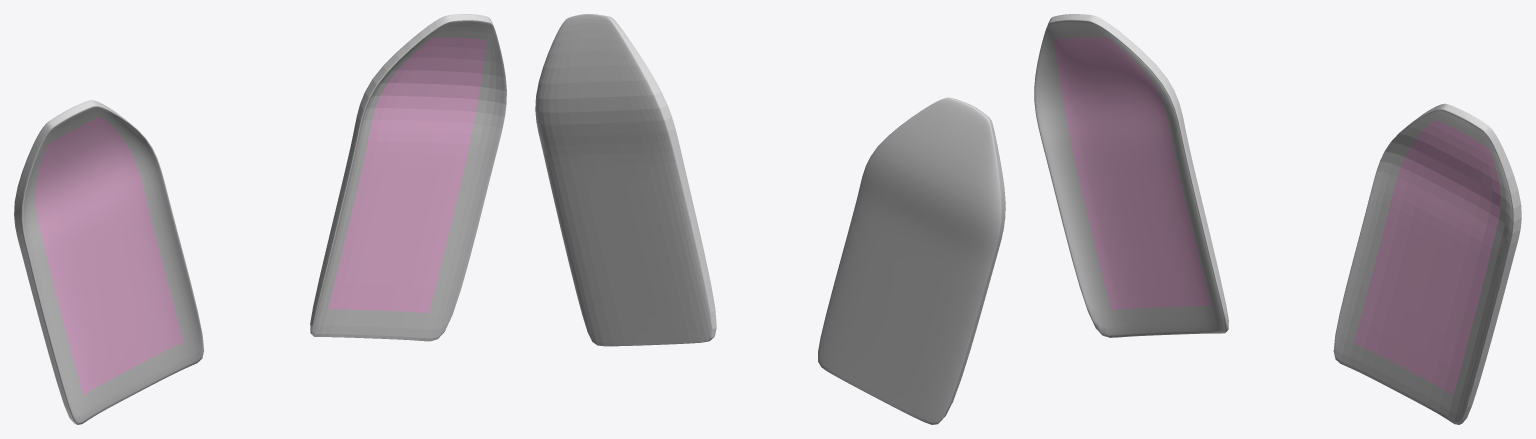
The model's file is bunny-ears.glb.
The picture shows the model from 3 angles, left to right: view 1: azimuth 30°, elevation 25°; view 2: azimuth 150°, elevation 25°; view 3: azimuth 330°, elevation 25°; orthographic projection. The views are drawn at different scales.
Parts seen in each view (by area): view 1: bunny ear right, bunny ear left; view 2: bunny ear left, bunny ear right; view 3: bunny ear left, bunny ear right.
Boxes of the visible parts, x1,y1,x2,y2 form: bunny ear right: (310,14,506,341); bunny ear left: (14,100,203,424); bunny ear left: (818,97,1005,424); bunny ear right: (535,14,716,346); bunny ear left: (1034,14,1228,337); bunny ear right: (1333,103,1521,424).
Bounding box in the file's own units: 6.81 × 4.48 × 0.471.
